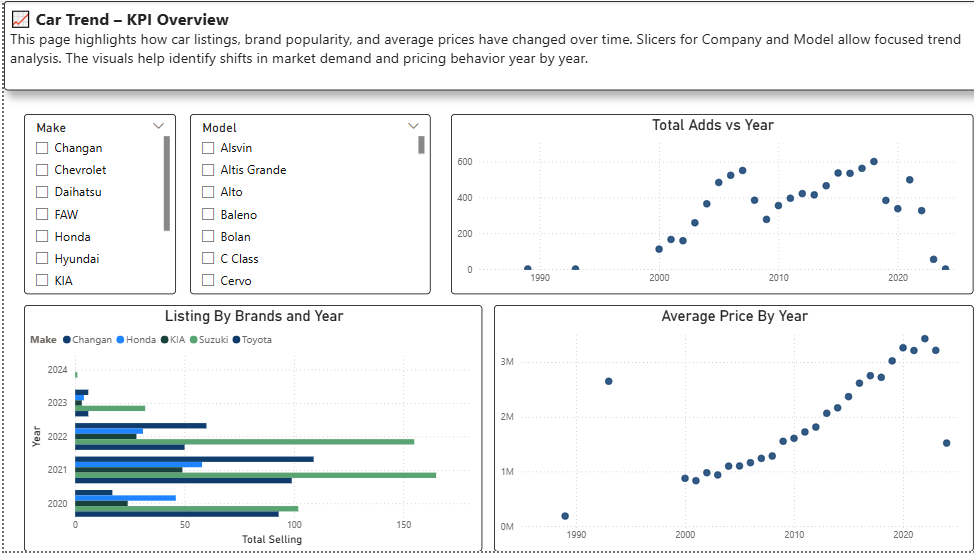

This screenshot's page, from the dashboard's own definition file:
{"tool":"powerbi","page":{"name":"Time Trend","canvas":[1280,720],"ordinal":5},"visuals":[{"type":"scatterChart","title":"Total Adds vs Year","fields":{"Y":["CountNonNull(OLX_cars_dataset00.Ad ID)"],"X":["OLX_cars_dataset00.Year"]},"box":[584.6,148.3,684,236.2],"z":0},{"type":"scatterChart","title":"Average Price By Year","fields":{"X":["OLX_cars_dataset00.Year"],"Y":["OLX_cars_dataset00.AVG_Price"]},"box":[640.8,397.4,627.8,322.6],"z":1000},{"type":"slicer","fields":{"Values":["OLX_cars_dataset00.Make"]},"box":[25.9,148.3,198.7,236.2],"z":2000},{"type":"clusteredBarChart","title":"Listing By Brands and Year","fields":{"Category":["OLX_cars_dataset00.Year"],"Series":["OLX_cars_dataset00.Make"],"Y":["CountNonNull(OLX_cars_dataset00.Ad ID)"]},"box":[25.9,397.4,600.5,322.6],"z":3000},{"type":"slicer","fields":{"Values":["OLX_cars_dataset00.Model"]},"box":[243.4,148.3,315.4,236.2],"z":4000},{"type":"textbox","box":[0,0,1280.2,116.6],"z":4001}]}

Visuals, with their boxes in screenshot pixels (x1, y1, x2, y2), scaled from the page's 1280x720 canvas onto the 974x553 screenshot:
"Total Adds vs Year" scatterChart: {"left": 445, "top": 114, "right": 965, "bottom": 295}
"Average Price By Year" scatterChart: {"left": 488, "top": 305, "right": 965, "bottom": 552}
slicer - OLX_cars_dataset00.Make: {"left": 20, "top": 114, "right": 171, "bottom": 295}
"Listing By Brands and Year" clusteredBarChart: {"left": 20, "top": 305, "right": 477, "bottom": 552}
slicer - OLX_cars_dataset00.Model: {"left": 185, "top": 114, "right": 425, "bottom": 295}
textbox: {"left": 0, "top": 0, "right": 973, "bottom": 90}
